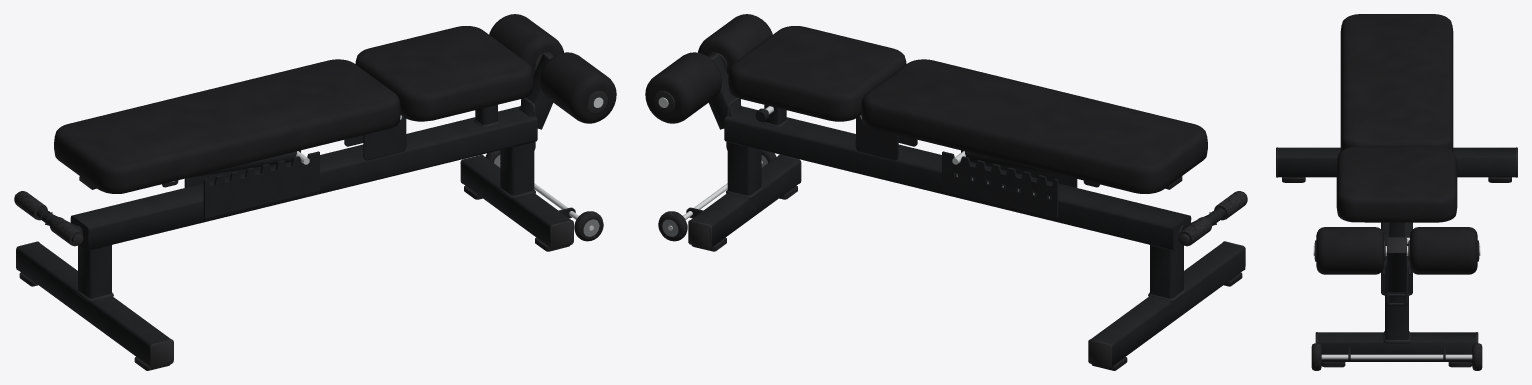
The model's file is real_adjustable_bench.glb.
3 renders of one model, left to right at view 1: azimuth 30°, elevation 25°; view 2: azimuth 150°, elevation 25°; view 3: azimuth 270°, elevation 25°, orthographic. The views are drawn at different scales.
Visible parts, largest first — view 1: Backrest pad (black vinyl), Backrest frame, Backrest frame End cap, Rubber foot, Handle grip (foam), Front leg top Weld, Leg holder axle; view 2: Backrest pad (black vinyl), Backrest frame, Backrest frame End cap, Rubber foot, Handle grip (foam), Front leg top Weld, Leg holder axle; view 3: Backrest pad (black vinyl), Backrest frame, Rubber foot, Leg holder axle, Backrest frame End cap, Front leg top Weld.
Boxes of the visible parts, x1,y1,x2,y2 form: Backrest pad (black vinyl): [54, 14, 616, 193]; Backrest frame: [17, 55, 575, 366]; Backrest frame End cap: [14, 52, 607, 368]; Rubber foot: [19, 150, 603, 370]; Handle grip (foam): [14, 191, 83, 246]; Front leg top Weld: [40, 97, 535, 302]; Leg holder axle: [171, 97, 603, 230]; Backrest pad (black vinyl): [645, 14, 1207, 193]; Backrest frame: [686, 55, 1244, 366]; Backrest frame End cap: [654, 52, 1247, 368]; Rubber foot: [658, 150, 1242, 370]; Handle grip (foam): [1178, 191, 1247, 246]; Front leg top Weld: [726, 97, 1221, 302]; Leg holder axle: [658, 97, 965, 230]; Backrest pad (black vinyl): [1316, 14, 1477, 274]; Backrest frame: [1278, 147, 1515, 361]; Rubber foot: [1282, 177, 1511, 370]; Leg holder axle: [1313, 237, 1480, 359]; Backrest frame End cap: [1276, 147, 1517, 343]; Front leg top Weld: [1383, 264, 1410, 343].
Size of the model in its own units: 1.39 by 0.444 by 0.609.
11 materials, 6 textured.
